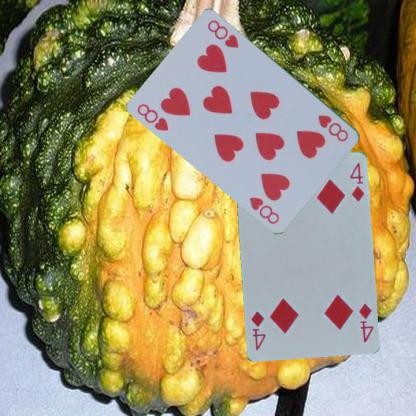4d: (356, 300, 374, 344)
8h: (134, 100, 170, 132), (316, 112, 350, 143)
